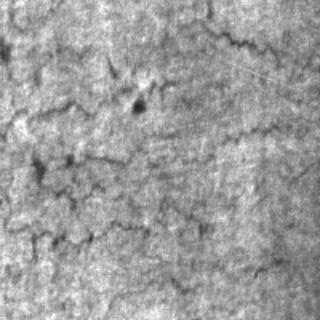crazing: (0, 126, 212, 248), (1, 40, 210, 140), (0, 218, 284, 290), (130, 14, 318, 94)
